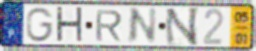2: (201, 7, 227, 47)
G: (25, 6, 56, 43)
H: (55, 6, 85, 45)
N: (164, 6, 201, 47), (126, 7, 159, 46)
R: (94, 9, 124, 43)
